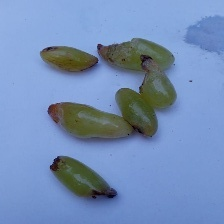grapes: (22, 2, 160, 190)
